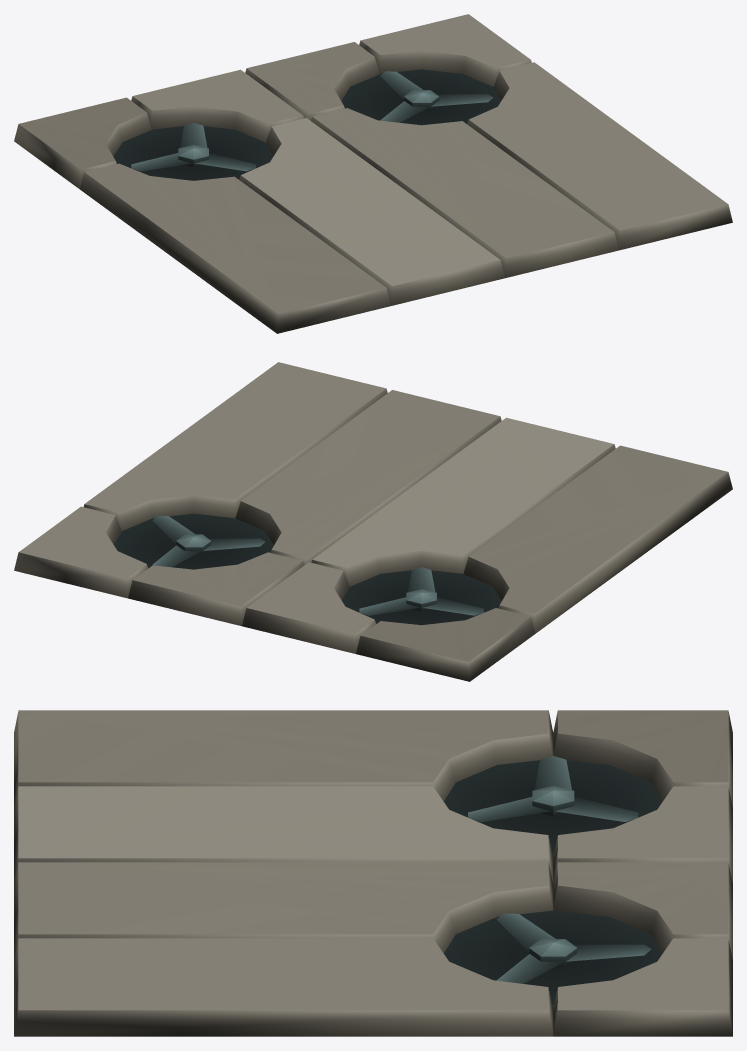
Rendered from Pavement_Industrial_2A_8X8.fbx.
3 views of the same model, one above another, from view 1: azimuth 30°, elevation 25°; view 2: azimuth 150°, elevation 25°; view 3: azimuth 270°, elevation 25° (orthographic). The views are drawn at different scales.
Visible parts, largest first — view 1: Pavement_Industrial_2A_8X8, Pavement_Industrial_2A_Fan.R, Pavement_Industrial_2A_Fan.L; view 2: Pavement_Industrial_2A_8X8, Pavement_Industrial_2A_Fan.R, Pavement_Industrial_2A_Fan.L; view 3: Pavement_Industrial_2A_8X8, Pavement_Industrial_2A_Fan.R, Pavement_Industrial_2A_Fan.L.
Part boxes in pixels (<box>): Pavement_Industrial_2A_8X8: <box>14,14,732,333</box>; Pavement_Industrial_2A_Fan.R: <box>131,123,256,171</box>; Pavement_Industrial_2A_Fan.L: <box>380,71,493,122</box>; Pavement_Industrial_2A_8X8: <box>14,362,732,681</box>; Pavement_Industrial_2A_Fan.R: <box>359,567,483,615</box>; Pavement_Industrial_2A_Fan.L: <box>152,515,265,567</box>; Pavement_Industrial_2A_8X8: <box>14,710,732,1036</box>; Pavement_Industrial_2A_Fan.R: <box>468,755,638,821</box>; Pavement_Industrial_2A_Fan.L: <box>496,913,651,983</box>.
Size of the model in its own units: 8 by 0.3 by 8.
